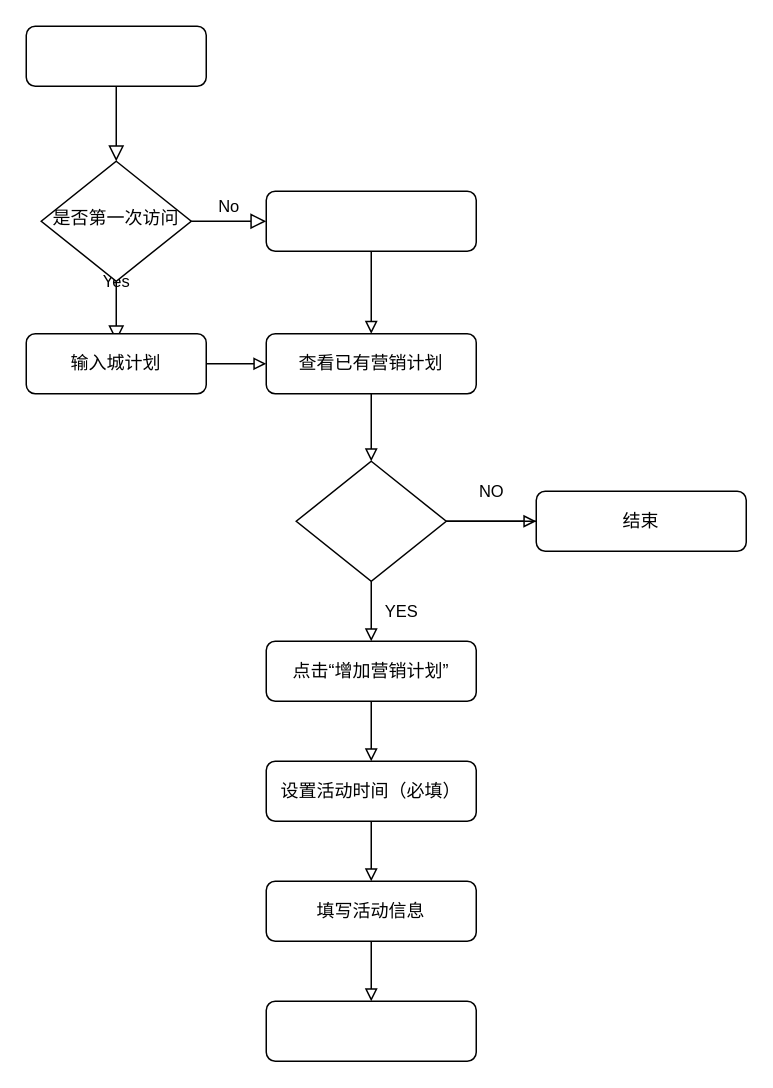
The diagram is 773 pixels wide and 1088 high, and some of its shapes have lost their labels. The shapes that lost their labels are listed below. From the top down, each one's centre as x and y in pixels, then its label:
the point at 115,55: 访问页面
the point at 370,220: 自动访问上次输入城计划
the point at 370,520: 是否新增计划
the point at 370,1030: 发布活动
